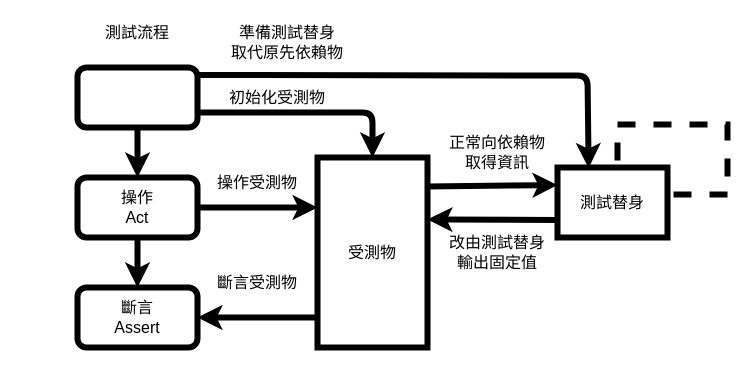
Some shapes in this 747 by 367 pixel diagram are drawn without their labels. The shapes that lost their labels are listed below. From the top down, each one's centre as x and y in pixels, then its label:
At (x=137, y=97): "準備 Arrange".
At (x=672, y=159): "依賴物".
